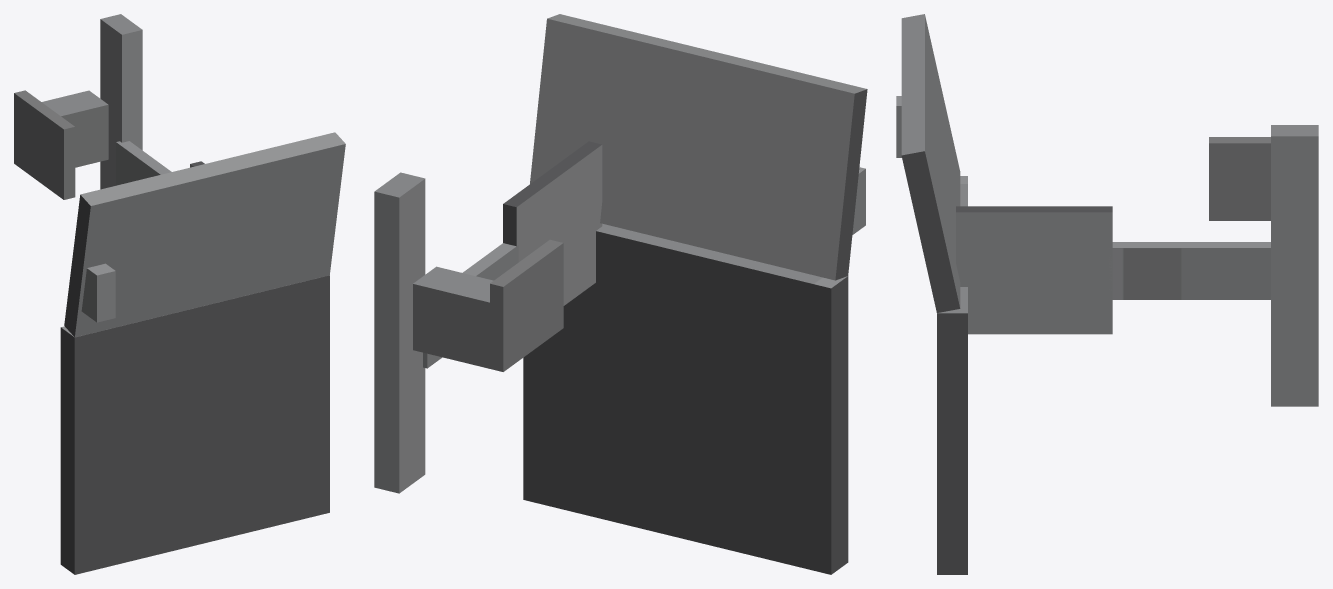
The picture shows the model from 3 angles, left to right: view 1: azimuth 30°, elevation 25°; view 2: azimuth 150°, elevation 25°; view 3: azimuth 270°, elevation 25°; orthographic projection. The views are drawn at different scales.
Size of the model in its own units: 0.68 by 0.9798 by 0.885.
